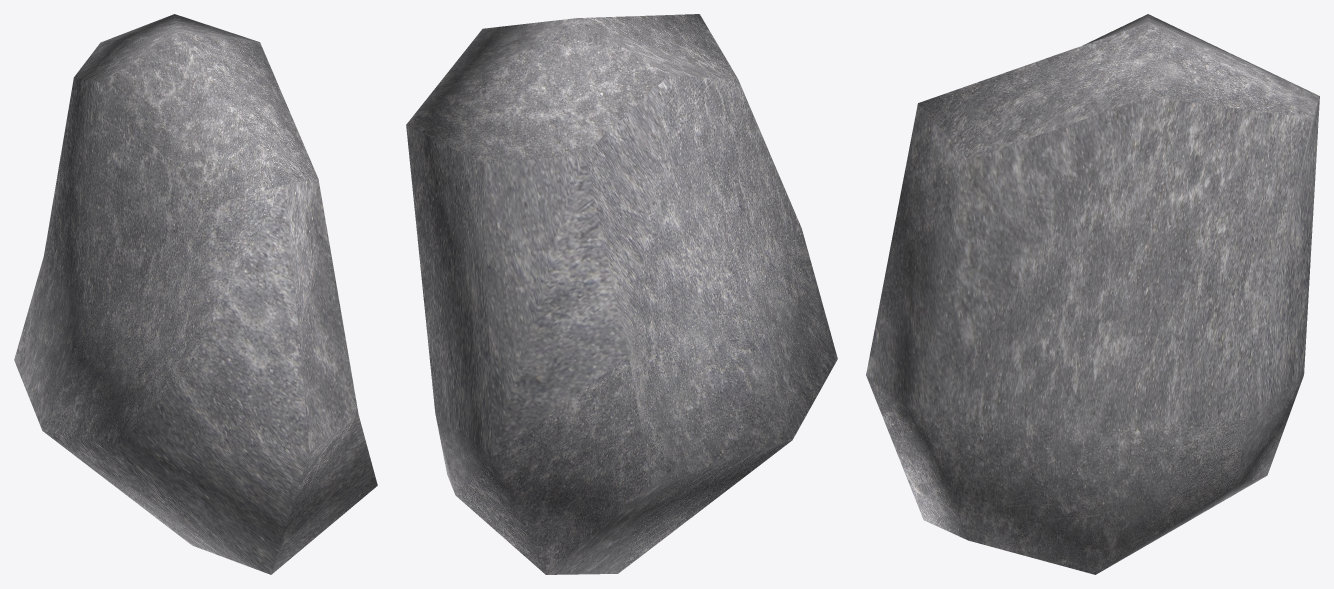
The model's file is rock2.fbx.
The picture shows the model from 3 angles, left to right: view 1: azimuth 30°, elevation 25°; view 2: azimuth 150°, elevation 25°; view 3: azimuth 270°, elevation 25°; orthographic projection. The views are drawn at different scales.
Parts seen in each view (by area): view 1: pCube1; view 2: pCube1; view 3: pCube1.
Part boxes in pixels (left/top/right/bottom): pCube1: left=14, top=14, right=377, bottom=574; pCube1: left=406, top=14, right=837, bottom=574; pCube1: left=866, top=14, right=1319, bottom=574.
Bounding box in the file's own units: 6.95 × 11.02 × 8.49.
Materials: 1 (1 with a texture image).
